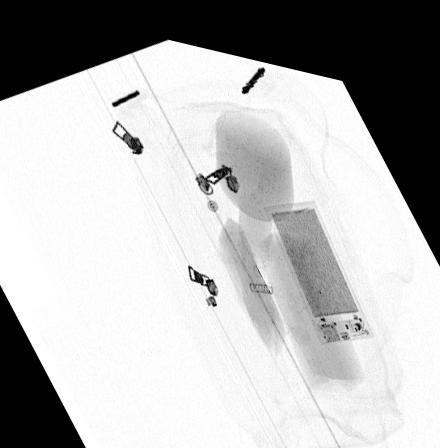Powerbank: (261, 184, 373, 328)
